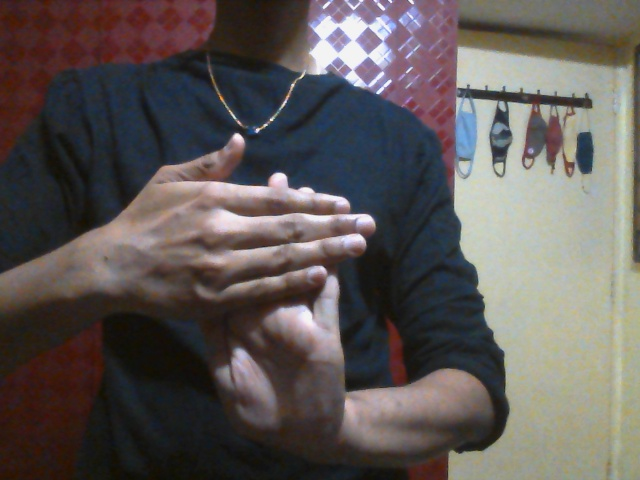H: (114, 132, 379, 450)
